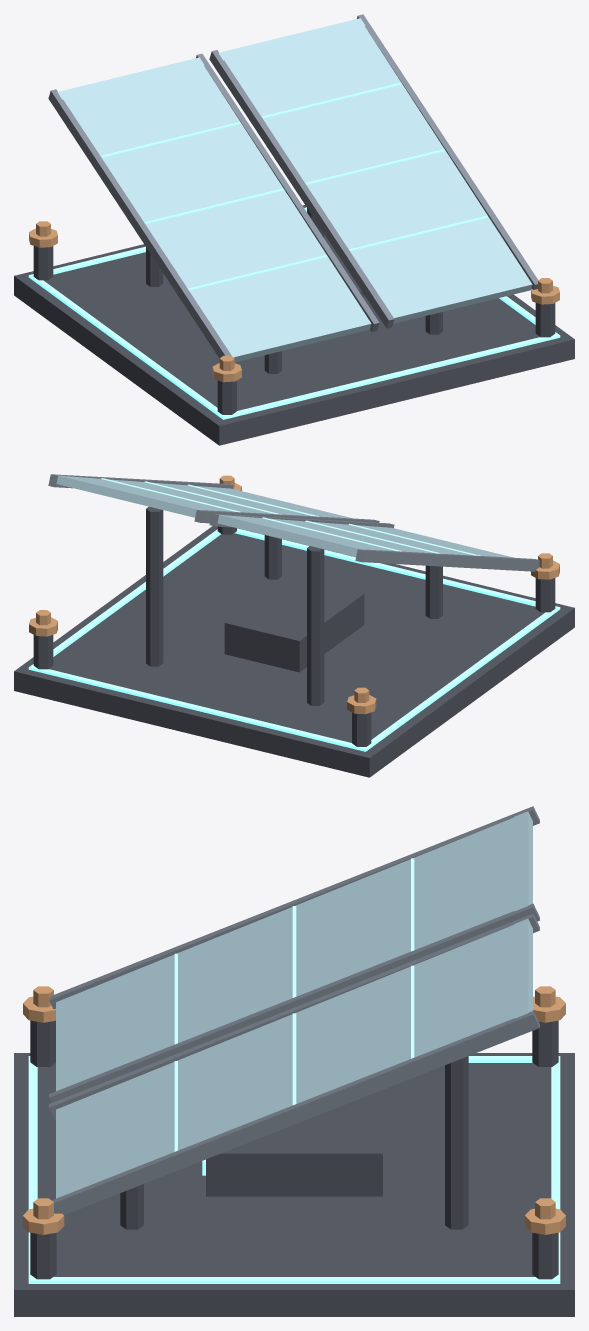
File: painel_solar_sem_textura.glb
3 views of the same model, one above another, from view 1: azimuth 30°, elevation 25°; view 2: azimuth 150°, elevation 25°; view 3: azimuth 270°, elevation 25° (orthographic). The views are drawn at different scales.
Visible parts, largest first — view 1: painel_solar; view 2: painel_solar; view 3: painel_solar.
Boxes of the visible parts, x1,y1,x2,y2 form: painel_solar: [14, 14, 574, 445]; painel_solar: [14, 474, 574, 777]; painel_solar: [14, 806, 574, 1316].
Size of the model in its own units: 1.9 by 1.08 by 1.9.
